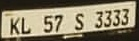character: (20, 16, 31, 34), (9, 16, 19, 35), (53, 14, 63, 32), (74, 12, 84, 30), (43, 15, 52, 33), (120, 8, 129, 26), (94, 10, 102, 28), (103, 9, 111, 27), (112, 8, 120, 26)
